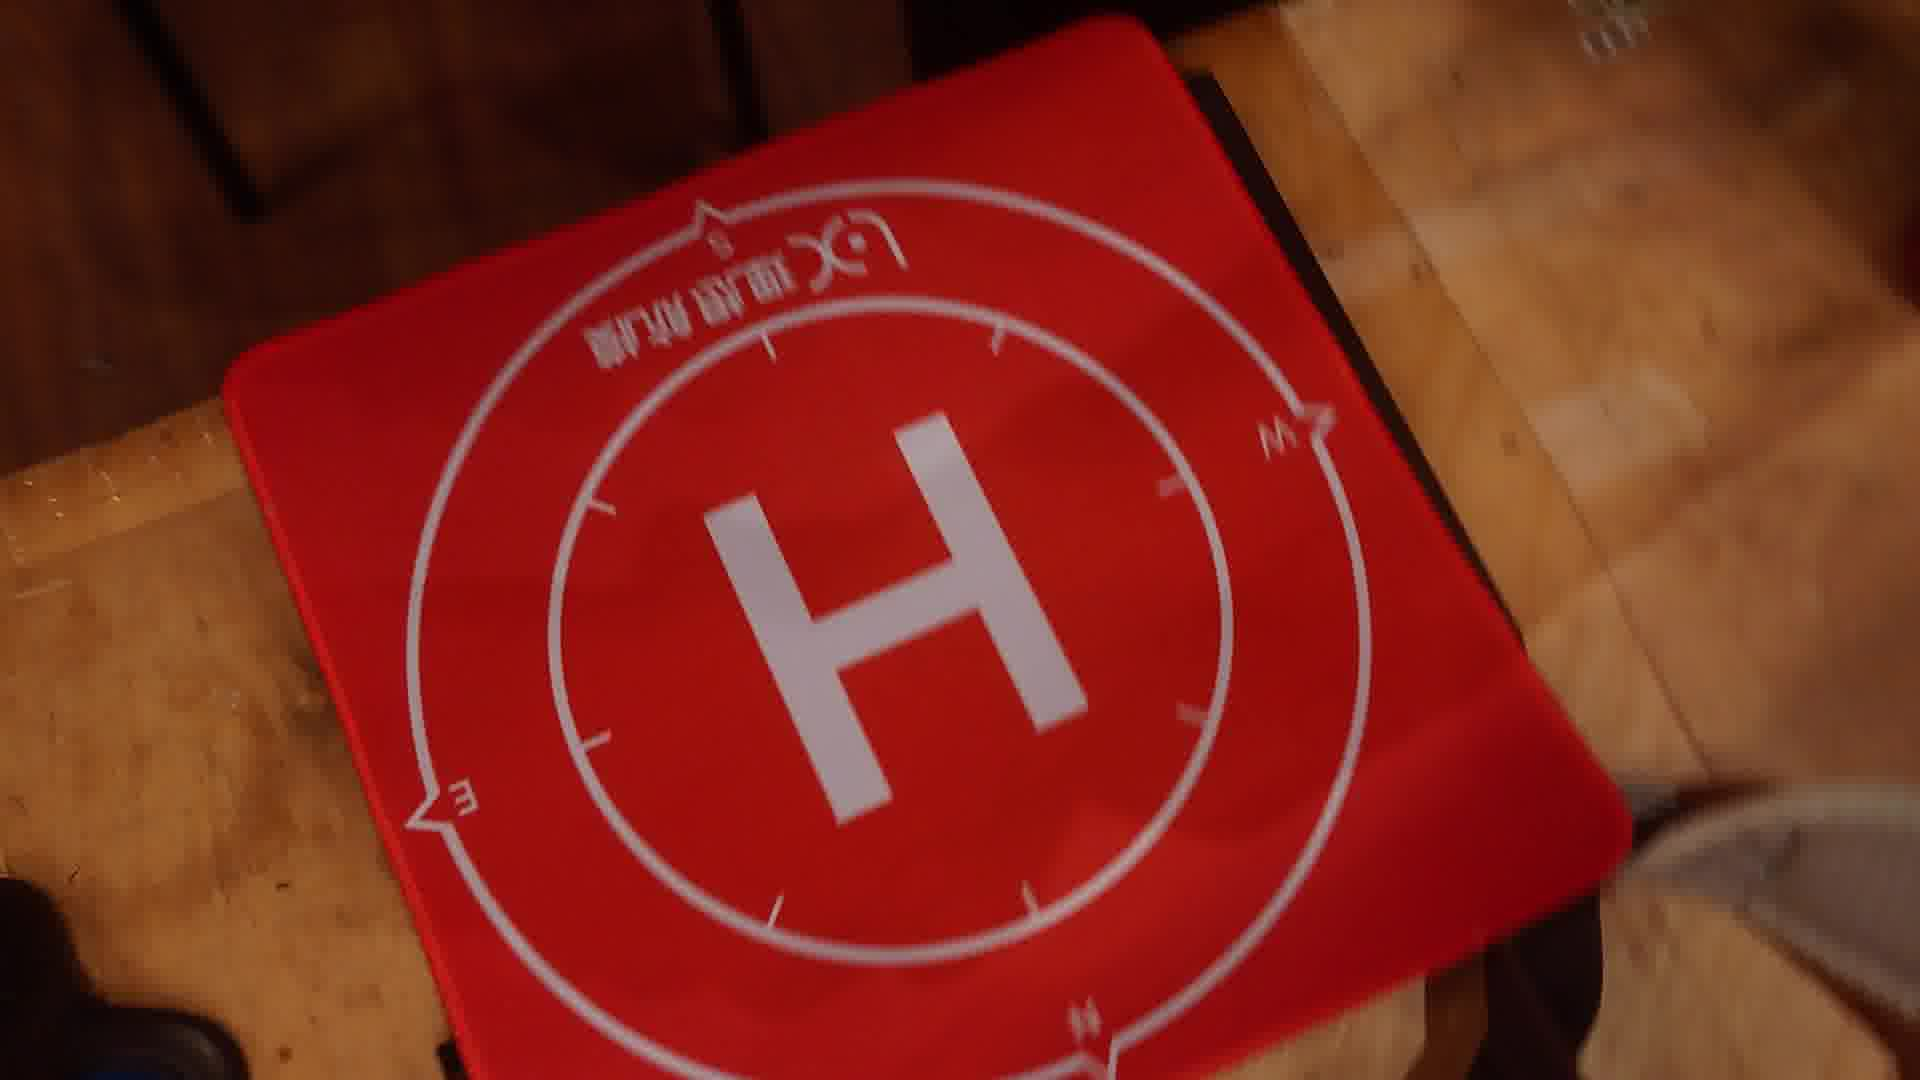H: (705, 411, 1089, 822)
